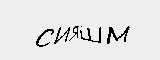И: (54, 24, 69, 46)
М: (103, 24, 130, 46)
С: (32, 24, 54, 50)
Ш: (79, 25, 102, 44)
Я: (71, 23, 79, 41)
